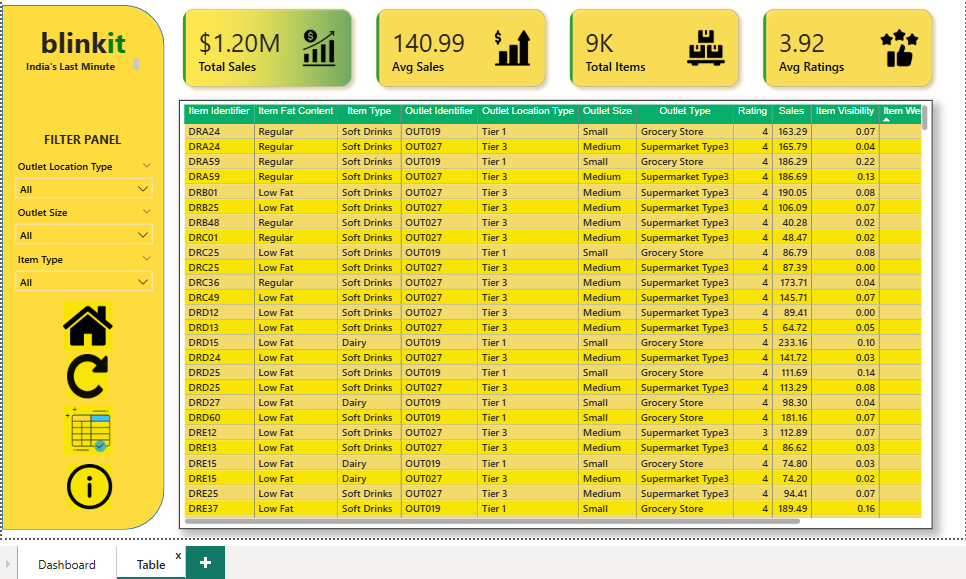

The page's visual inventory and layout, read from the dashboard file:
{"tool":"powerbi","page":{"name":"Table","canvas":[1280,720],"ordinal":1},"visuals":[{"type":"shape","box":[0,11.4,215.7,697.1],"z":0},{"type":"textbox","box":[43.7,30.2,127.7,62.2],"z":1000},{"type":"textbox","box":[26.9,79,161.3,26.9],"z":2000},{"type":"slicer","fields":{"Values":["BlinkIT Grocery Data.Outlet Location Type"]},"box":[7.3,212.2,202,61.5],"z":3000},{"type":"slicer","fields":{"Values":["BlinkIT Grocery Data.Outlet Size"]},"box":[7.3,273.7,202,61.5],"z":4000},{"type":"slicer","fields":{"Values":["BlinkIT Grocery Data.Item Type"]},"box":[7.3,336.6,202,61.5],"z":5000},{"type":"textbox","box":[26.3,174.1,161,38],"z":6000},{"type":"actionButton","box":[80.5,405.4,65.9,65.9],"z":7000},{"type":"actionButton","box":[86.3,475.6,54.1,58.5],"z":8000},{"type":"actionButton","box":[86.3,622,60,60],"z":9000},{"type":"actionButton","box":[80.5,542.9,65.9,65.9],"z":10000},{"type":"cardVisual","fields":{"Data":["BlinkIT Grocery Data.Total Sales","BlinkIT Grocery Data.Avg Sales","BlinkIT Grocery Data.Total Items","BlinkIT Grocery Data.Avg Ratings"]},"box":[222.9,0,1031.4,138.6],"z":11000},{"type":"tableEx","fields":{"Values":["BlinkIT Grocery Data.Item Identifier","BlinkIT Grocery Data.Item Fat Content","BlinkIT Grocery Data.Item Type","BlinkIT Grocery Data.Outlet Identifier","BlinkIT Grocery Data.Outlet Location Type","BlinkIT Grocery Data.Outlet Size","BlinkIT Grocery Data.Outlet Type","BlinkIT Grocery Data.Rating","BlinkIT Grocery Data.Sales","BlinkIT Grocery Data.Item Visibility","BlinkIT Grocery Data.Item Weight","BlinkIT Grocery Data.Outlet Establishment Year"]},"box":[235.7,138.6,1001.4,570],"z":12000}]}

Visuals, with their boxes on the page's 1280x720 design canvas (x1, y1, x2, y2). These are canvas units, not pixel positions in the 966x579 screenshot, which may show the page scaled, cropped or inside an application window:
shape: bbox=(0, 11, 216, 708)
textbox: bbox=(44, 30, 171, 92)
textbox: bbox=(27, 79, 188, 106)
slicer - BlinkIT Grocery Data.Outlet Location Type: bbox=(7, 212, 209, 274)
slicer - BlinkIT Grocery Data.Outlet Size: bbox=(7, 274, 209, 335)
slicer - BlinkIT Grocery Data.Item Type: bbox=(7, 337, 209, 398)
textbox: bbox=(26, 174, 187, 212)
actionButton: bbox=(80, 405, 146, 471)
actionButton: bbox=(86, 476, 140, 534)
actionButton: bbox=(86, 622, 146, 682)
actionButton: bbox=(80, 543, 146, 609)
cardVisual - BlinkIT Grocery Data.Total Sales x BlinkIT Grocery Data.Avg Sales: bbox=(223, 0, 1254, 139)
tableEx - BlinkIT Grocery Data.Item Identifier x BlinkIT Grocery Data.Item Fat Content: bbox=(236, 139, 1237, 709)
